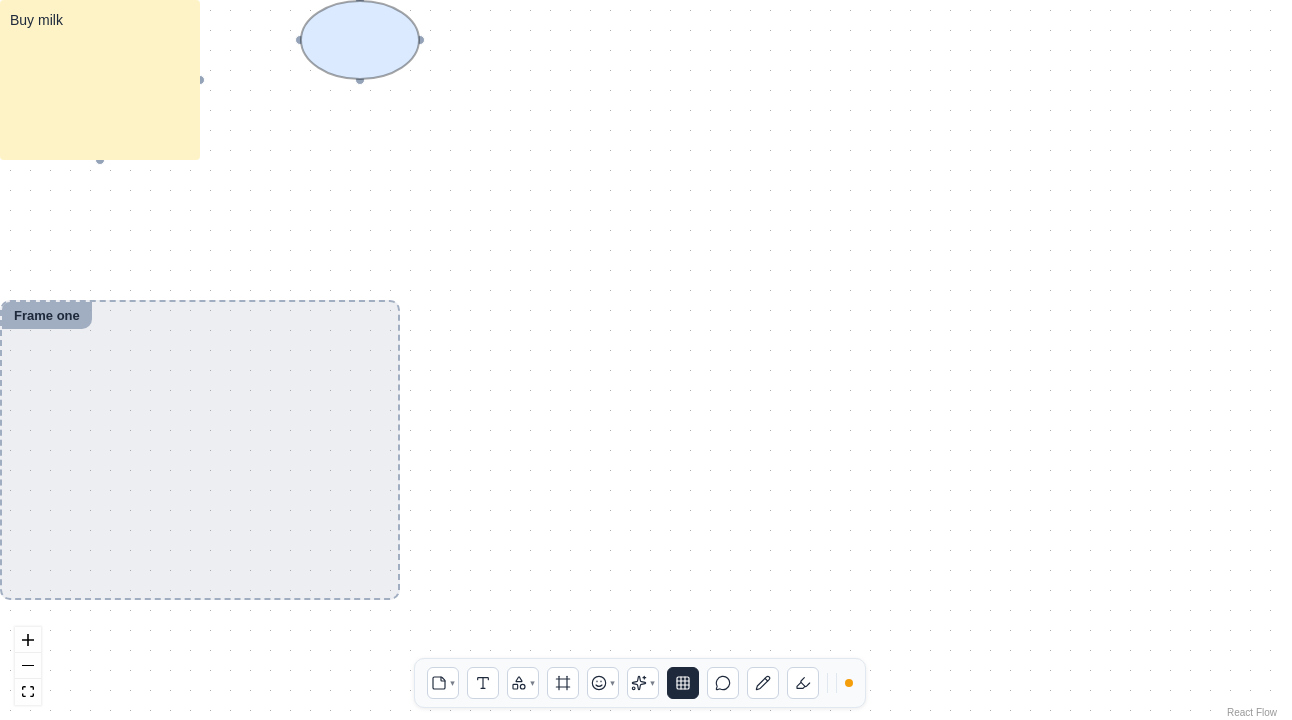
Scenario: BoardCanvas › double-click, edit, and commit a sticky note updates the rendered text (real store, no mocks)
Double-click the text "Buy milk" at {"x": 36, "y": 20}, box [10, 12, 63, 28]
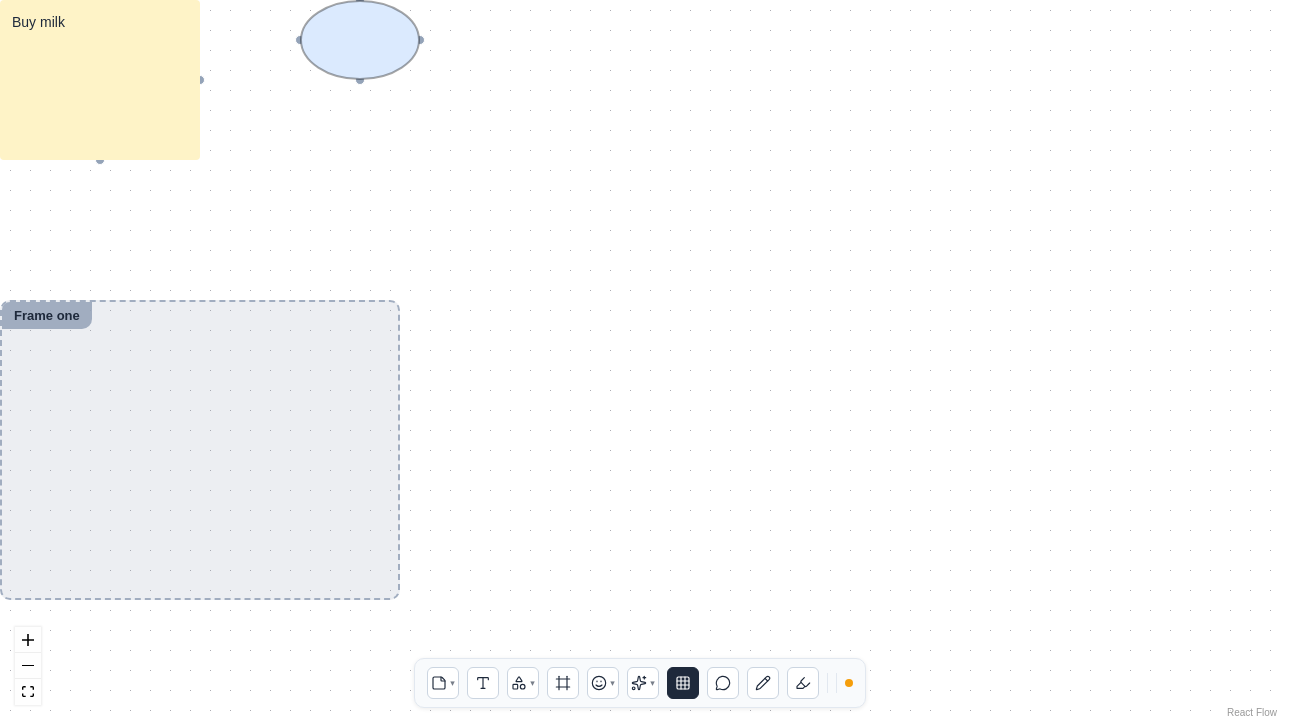
Replace the text in the text box with "Buy bread" at {"x": 100, "y": 82}, box [10, 10, 190, 154]
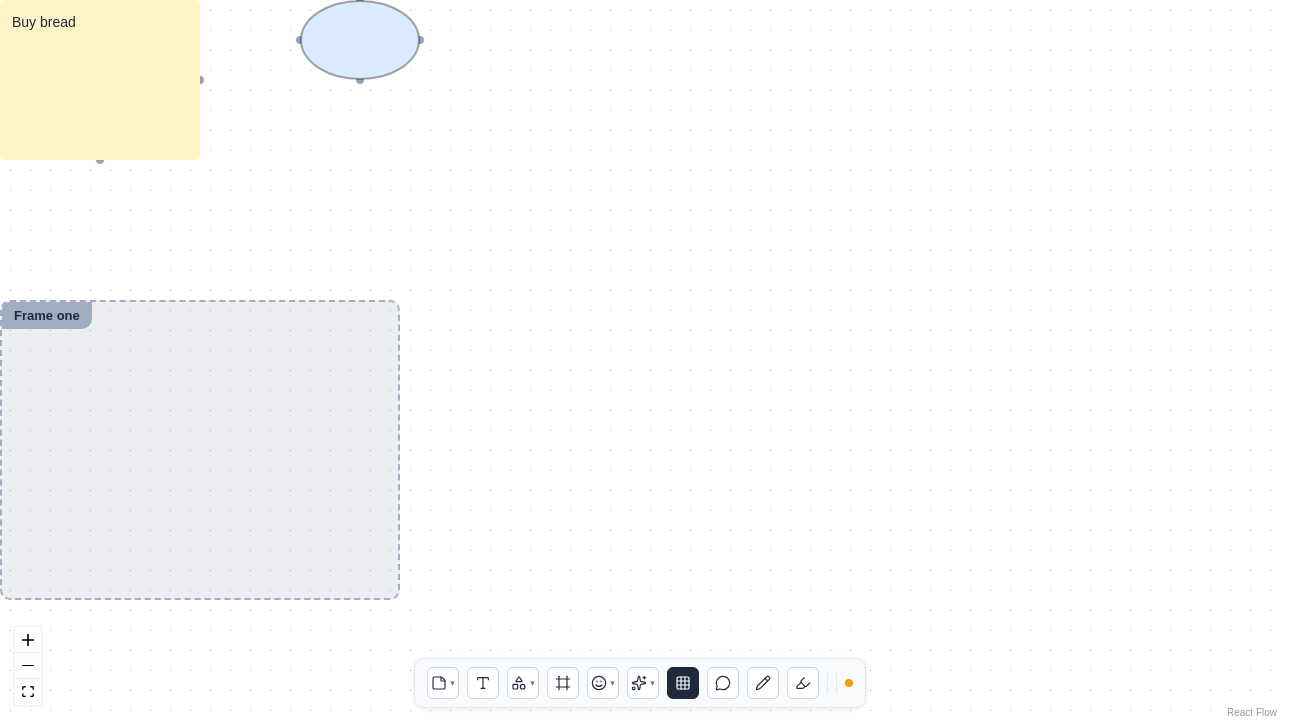
Leave the text box, box [10, 10, 190, 154]
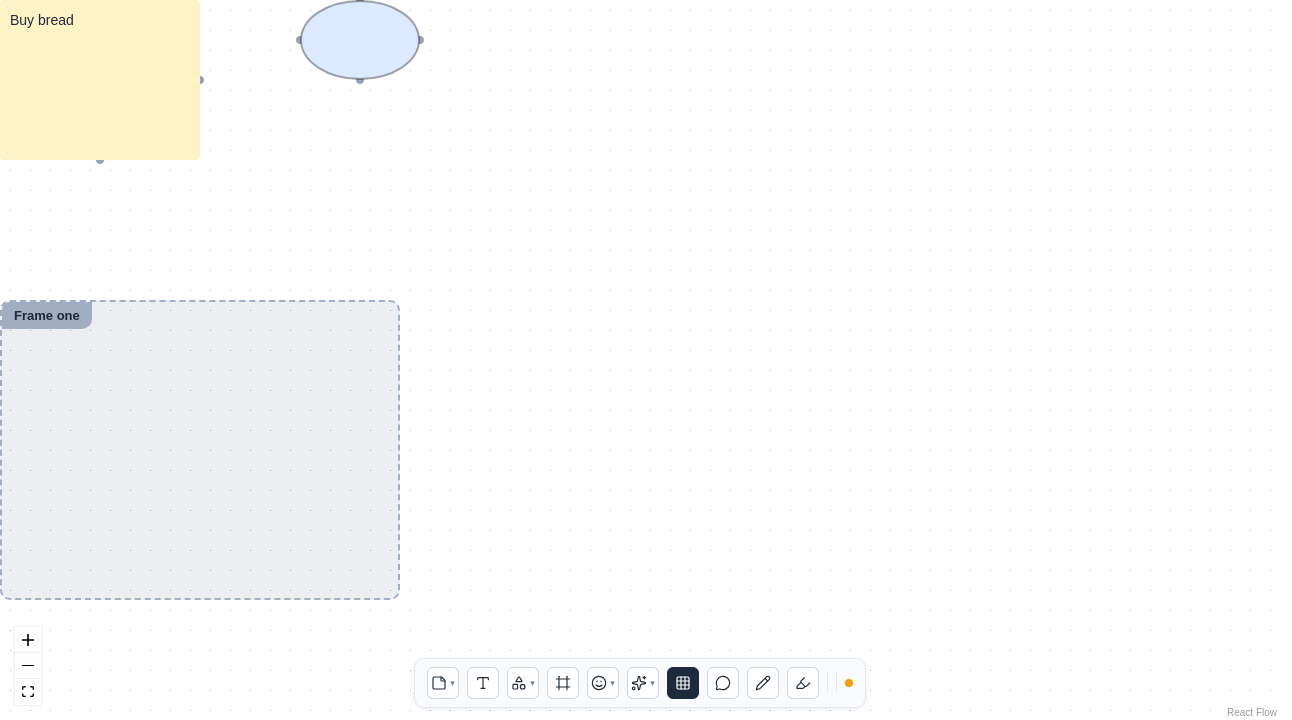
Expected: the text "Buy milk" is not shown
Expected: the text "Buy bread" is shown, [10, 12, 74, 28]
